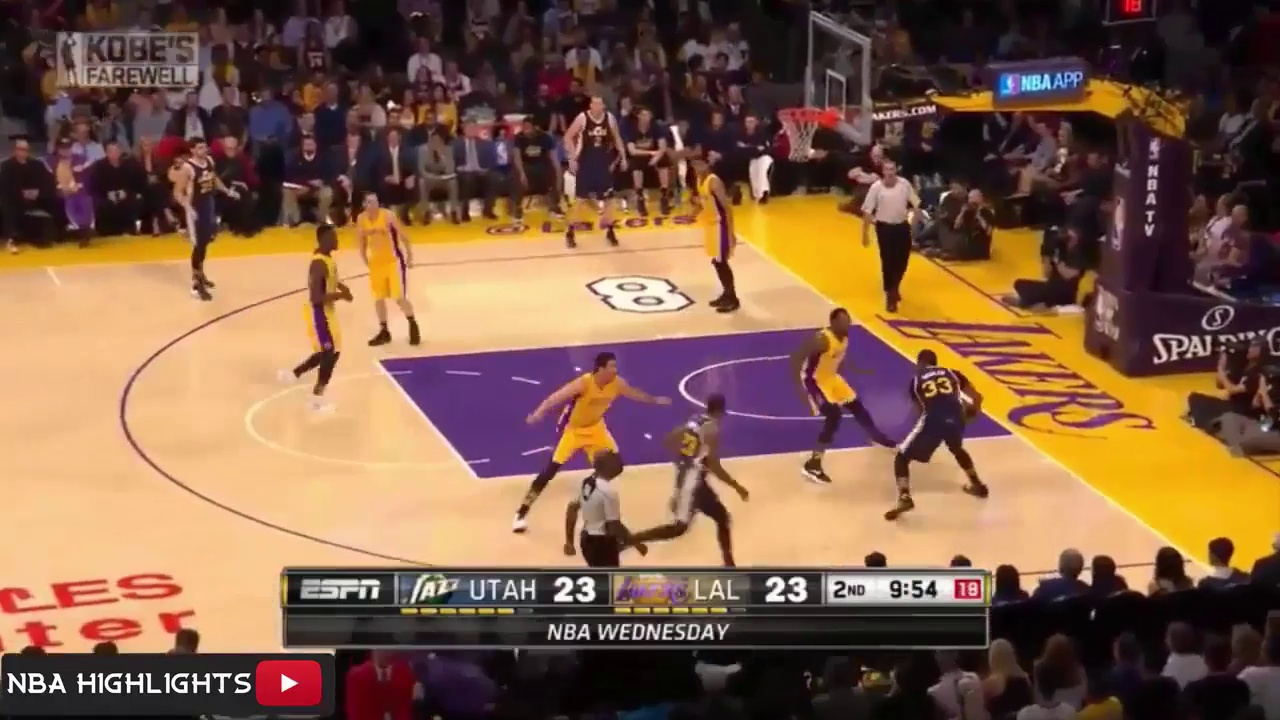jazz: (889, 346, 1004, 520), (651, 381, 741, 563), (563, 91, 638, 251), (178, 135, 235, 297)
lakers: (508, 346, 666, 523), (792, 308, 887, 482), (283, 216, 358, 411), (352, 193, 439, 348), (681, 155, 748, 317)
